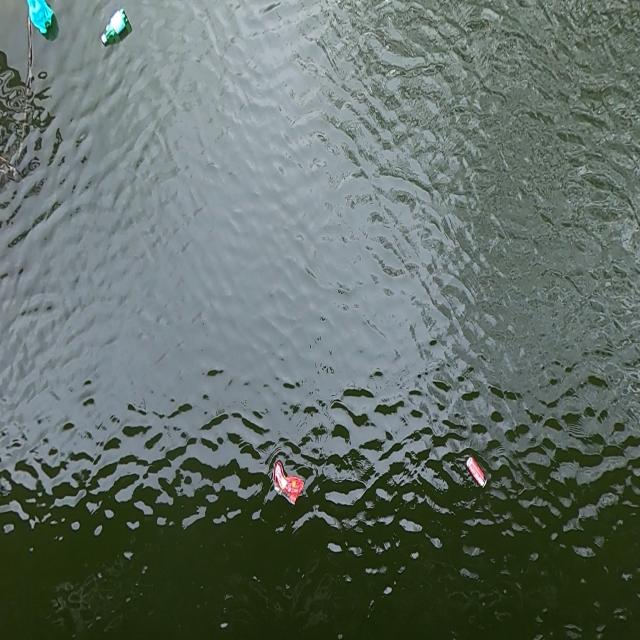Bouteille plastique: (98, 5, 132, 50)
Non plastique: (462, 453, 490, 497)
